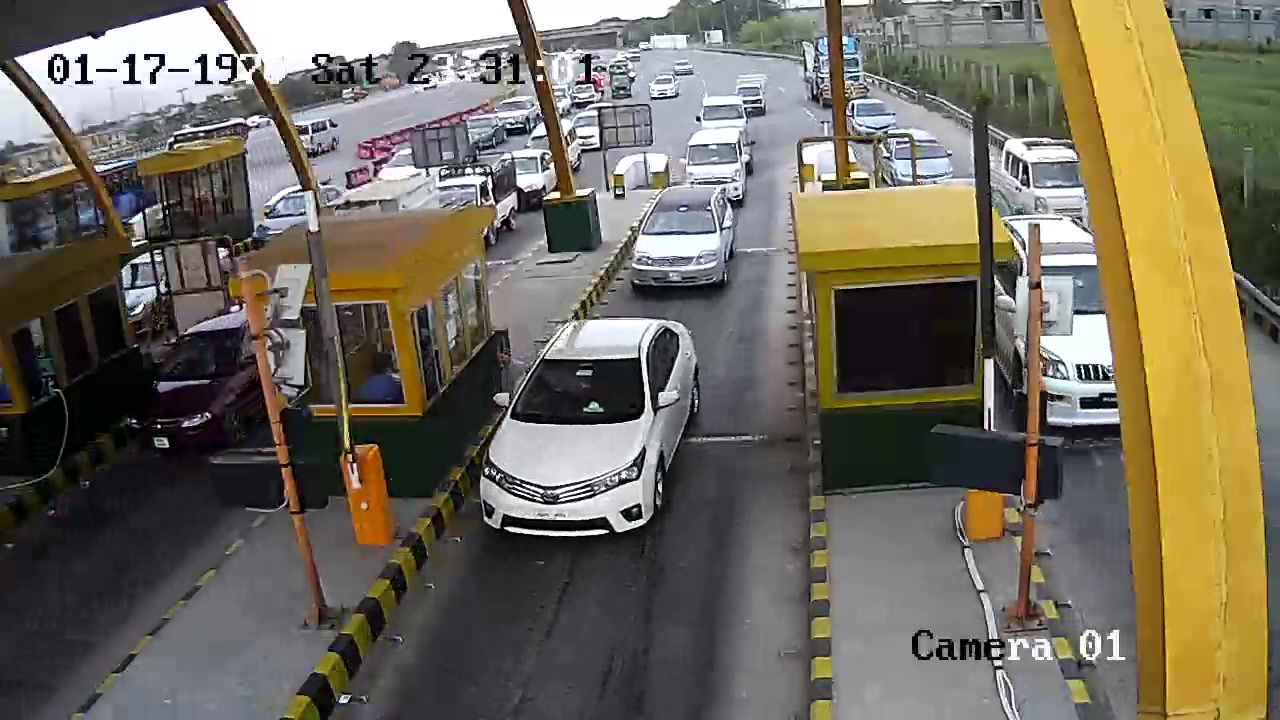F1: (490, 312, 699, 546)
